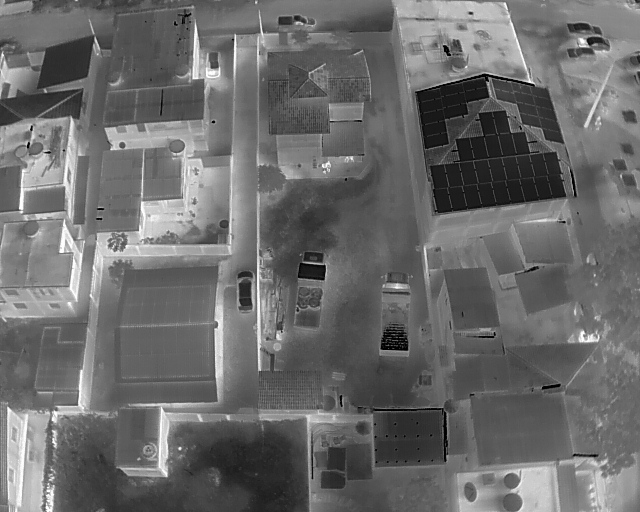car: (575, 300, 600, 345), (273, 11, 319, 31), (234, 269, 254, 313), (585, 247, 605, 290), (203, 47, 224, 79), (563, 20, 604, 35), (574, 36, 615, 51), (566, 46, 598, 61), (630, 70, 640, 88), (622, 1, 640, 11), (629, 52, 640, 67)
person: (325, 159, 332, 173), (596, 120, 603, 134), (595, 113, 602, 126), (320, 162, 327, 175), (540, 0, 546, 10), (252, 0, 259, 5)
truck: (374, 268, 416, 360), (293, 248, 330, 332)
